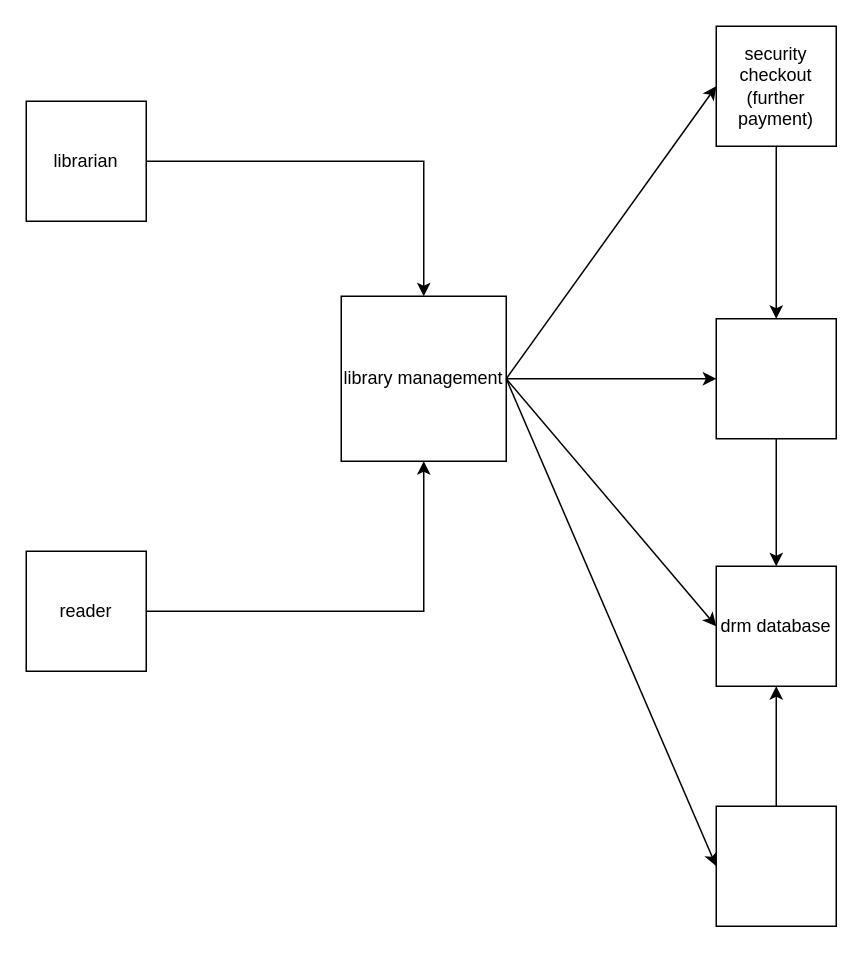
The diagram is 863 pixels wide and 953 high, and some of its shapes have lost their labels. The shapes that lost their labels are listed below. From the top down, each one's box as (x1, y1, x2, y2) in pixels, then its label:
(715, 317, 836, 439): book databases
(715, 805, 836, 926): user databases
